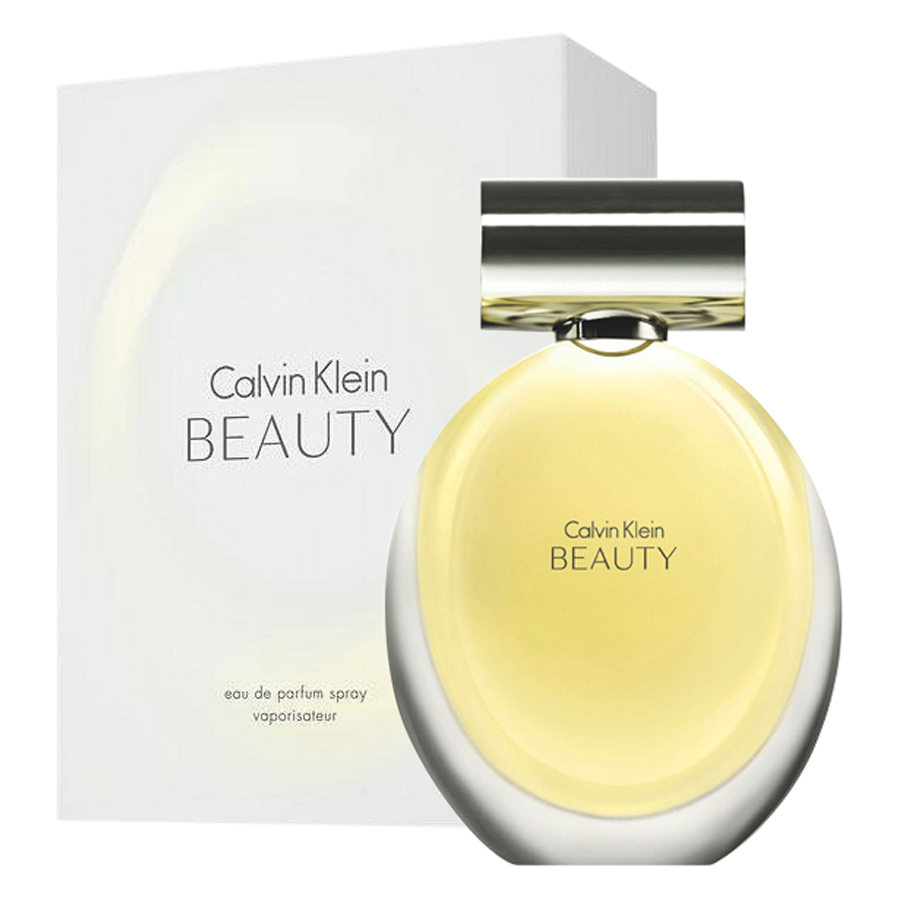Calvin Klein: (196, 358, 402, 402), (555, 508, 670, 545)
